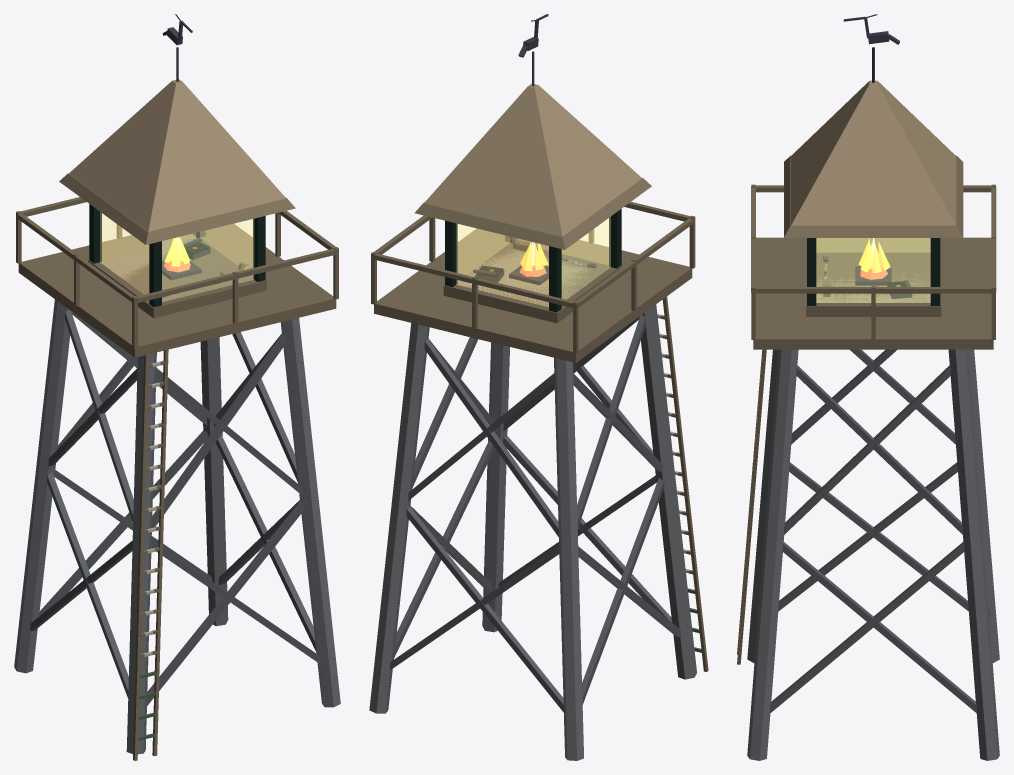
File: heron_light_near_lit.glb
3 views of the same model, side by side, from view 1: azimuth 30°, elevation 25°; view 2: azimuth 150°, elevation 25°; view 3: azimuth 270°, elevation 25° (orthographic). The views are drawn at different scales.
Parts seen in each view (by area): view 1: driftwood_d40, silverfog_d45, silverfog_d55, driftwood_d20, kindle_glow_horn30, driftwood_d35, pine_d60, ink_l15, bone_d22; view 2: driftwood_d40, silverfog_d45, silverfog_d55, driftwood_d20, kindle_glow_horn30, driftwood_d35, pine_d60, ink_l15; view 3: driftwood_d40, silverfog_d45, driftwood_d20, silverfog_d55, kindle_glow_horn30, driftwood_d35, pine_d60, ink_l15, ember_glow.
Part boxes in pixels (x1,y1,x2,y2): driftwood_d40: (16,197,338,760); silverfog_d45: (14,283,340,754); silverfog_d55: (30,310,320,705); driftwood_d20: (68,79,285,231); kindle_glow_horn30: (100,212,253,301); driftwood_d35: (59,173,295,244); pine_d60: (89,204,265,307); ink_l15: (162,14,210,297); bone_d22: (143,287,203,656); driftwood_d40: (371,201,708,671); silverfog_d45: (369,253,696,760); silverfog_d55: (390,315,680,712); driftwood_d20: (424,83,642,236); kindle_glow_horn30: (456,217,610,306); driftwood_d35: (414,178,651,249); pine_d60: (445,209,621,312); ink_l15: (473,14,596,285); driftwood_d40: (737,184,996,664); silverfog_d45: (747,253,999,760); driftwood_d20: (791,80,955,225); silverfog_d55: (757,349,989,713); kindle_glow_horn30: (816,238,930,302); driftwood_d35: (784,155,963,237); pine_d60: (807,238,940,305); ink_l15: (823,14,912,299); ember_glow: (858,238,890,272).
Size of the model in its own units: 3.52 by 10.53 by 3.61.
